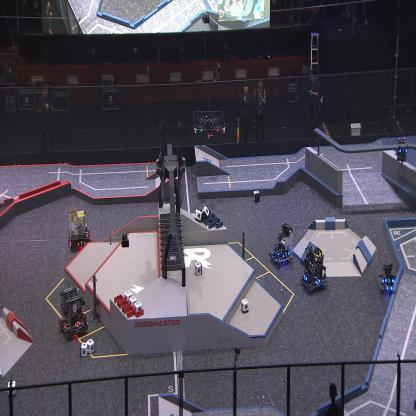car: (59, 285, 88, 338), (300, 245, 327, 292), (268, 221, 293, 267), (67, 209, 91, 249), (378, 263, 398, 294)
